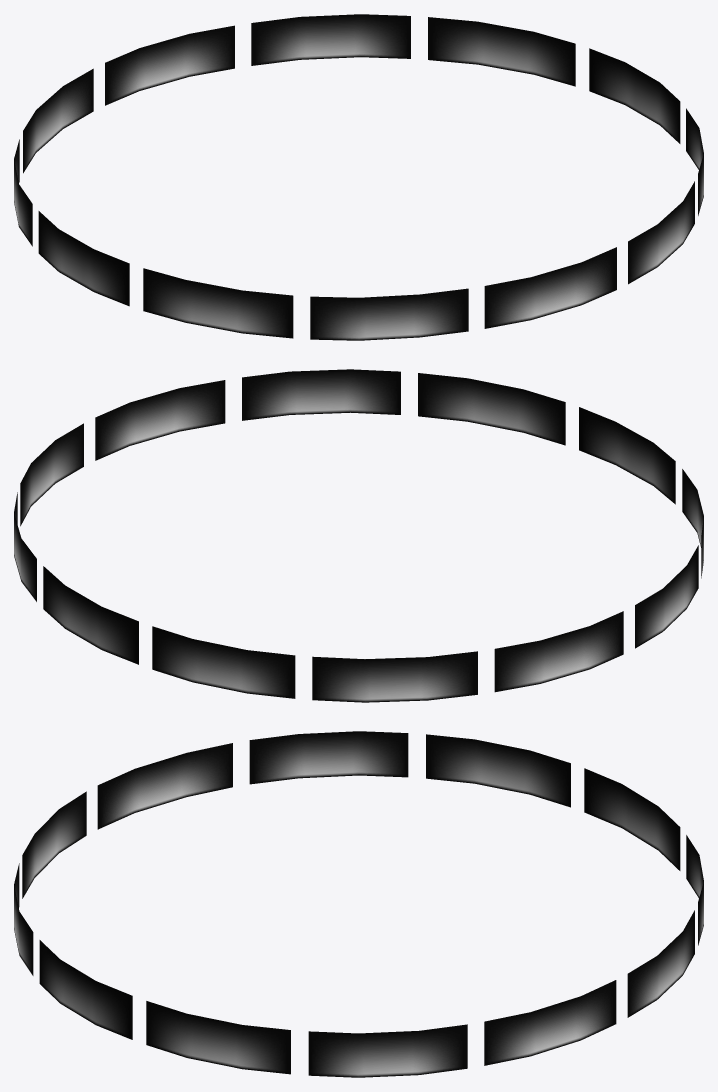
Rendered from menunew3_circlerays.fbx.
3 views of the same model, one above another, from view 1: azimuth 30°, elevation 25°; view 2: azimuth 150°, elevation 25°; view 3: azimuth 270°, elevation 25° (orthographic). The views are drawn at different scales.
Parts seen in each view (by area): view 1: menuNew3_circleRays__6_-_Defaultasd_LOD1; view 2: menuNew3_circleRays__6_-_Defaultasd_LOD1; view 3: menuNew3_circleRays__6_-_Defaultasd_LOD1.
Boxes of the visible parts, box(x1,y1,x2,y2) form: menuNew3_circleRays__6_-_Defaultasd_LOD1: box(14, 14, 703, 340); menuNew3_circleRays__6_-_Defaultasd_LOD1: box(14, 369, 703, 702); menuNew3_circleRays__6_-_Defaultasd_LOD1: box(14, 731, 703, 1077).
Bounding box in the file's own units: 6.25 × 6.03 × 0.4274.
